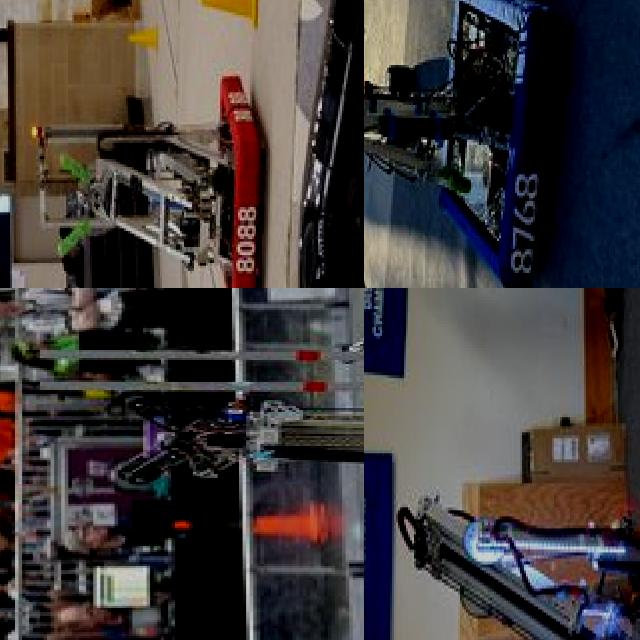FRC-Robots: (22, 288, 364, 595), (366, 349, 640, 640), (364, 0, 589, 288), (30, 53, 297, 288)
